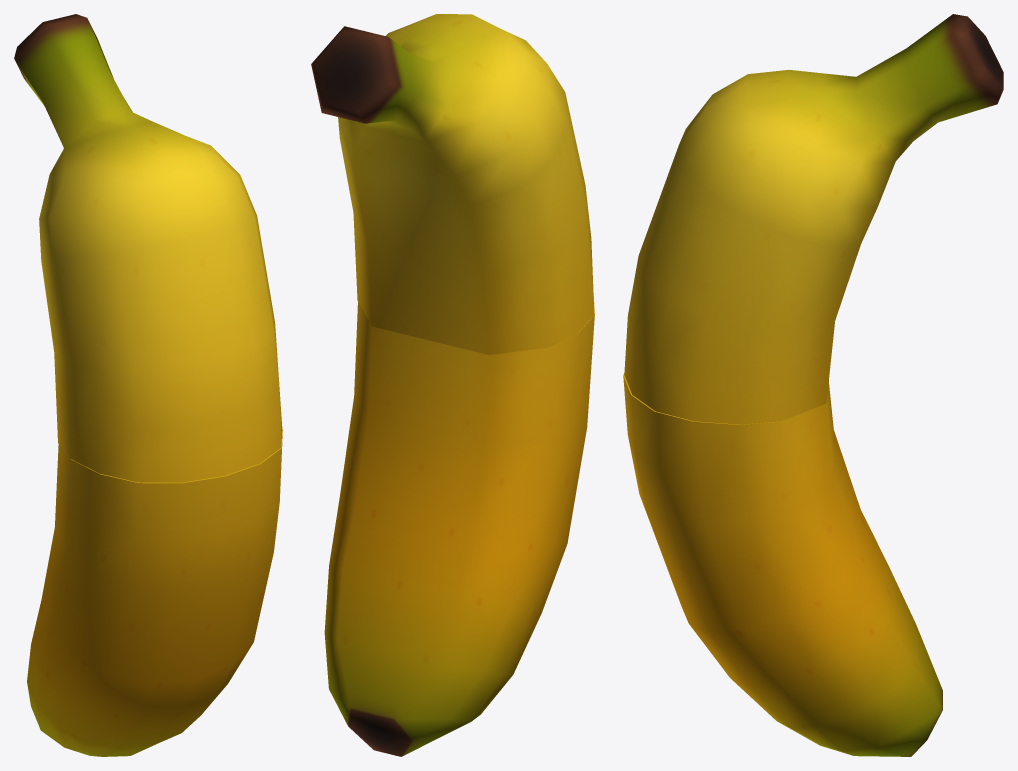
3 views of the same model, side by side, from view 1: azimuth 30°, elevation 25°; view 2: azimuth 150°, elevation 25°; view 3: azimuth 270°, elevation 25° (orthographic). The views are drawn at different scales.
Visible parts, largest first — view 1: Banana_Half_Top001, Banana_Half_Bottom001; view 2: Banana_Half_Bottom001, Banana_Half_Top001; view 3: Banana_Half_Top001, Banana_Half_Bottom001.
Part boxes in pixels (bbox=[...]): Banana_Half_Top001: bbox=[14, 14, 282, 482]; Banana_Half_Bottom001: bbox=[27, 429, 282, 756]; Banana_Half_Bottom001: bbox=[324, 296, 594, 756]; Banana_Half_Top001: bbox=[311, 14, 594, 354]; Banana_Half_Top001: bbox=[624, 14, 1003, 424]; Banana_Half_Bottom001: bbox=[623, 373, 942, 756].
Size of the model in its own units: 10.38 by 35.42 by 16.83.
Materials: 2 (2 with a texture image).
